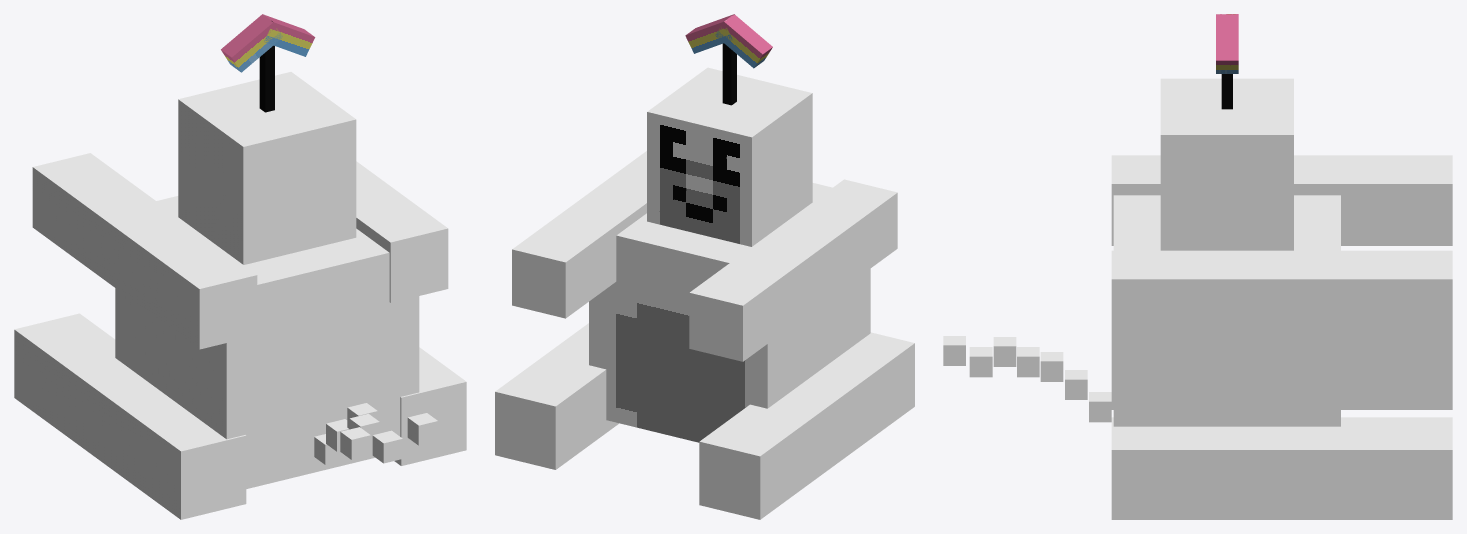
File: SimioArcoiris_obj_Texture.obj
The picture shows the model from 3 angles, left to right: view 1: azimuth 30°, elevation 25°; view 2: azimuth 150°, elevation 25°; view 3: azimuth 270°, elevation 25°; orthographic projection. The views are drawn at different scales.
Visible parts, largest first — view 1: Box001, Box006, Box005, Box002, Box003, Box004, Box016, Box015, Box014, Box011, Box012, Box013 (+1 smaller); view 2: Box001, Box006, Box005, Box002, Box003, Box004, Box016, Box015, Box014; view 3: Box004, Box003, Box001, Box006, Box002, Box005, Box015, Box012, Box009, Box011, Box007, Box010 (+2 smaller).
Part boxes in pixels (box(x1,y1,x2,y2)): Box001: box(115, 196, 419, 488); Box006: box(178, 72, 356, 264); Box005: box(14, 313, 246, 519); Box002: box(32, 153, 257, 349); Box003: box(356, 161, 448, 302); Box004: box(394, 347, 466, 465); Box016: box(221, 14, 282, 72); Box015: box(263, 14, 315, 56); Box014: box(259, 45, 274, 112); Box011: box(340, 427, 370, 459); Box012: box(372, 430, 402, 463); Box013: box(407, 413, 437, 445); Box001: box(589, 183, 870, 442); Box006: box(647, 67, 812, 246); Box005: box(699, 332, 914, 519); Box002: box(689, 179, 897, 361); Box003: box(512, 151, 646, 318); Box004: box(495, 323, 618, 469); Box016: box(715, 14, 772, 68); Box015: box(685, 14, 734, 53); Box014: box(722, 43, 736, 105); Box004: box(1111, 417, 1452, 519); Box003: box(1111, 250, 1452, 341); Box001: box(1113, 195, 1340, 426); Box006: box(1160, 78, 1293, 250); Box002: box(1111, 155, 1452, 245); Box005: box(1111, 341, 1452, 409); Box015: box(1216, 14, 1238, 73); Box012: box(969, 347, 992, 377); Box009: box(1040, 352, 1063, 381); Box011: box(993, 337, 1016, 366); Box007: box(1089, 392, 1111, 422); Box010: box(1017, 347, 1039, 377).
Size of the model in its own units: 1.48 by 2.11 by 2.24.
